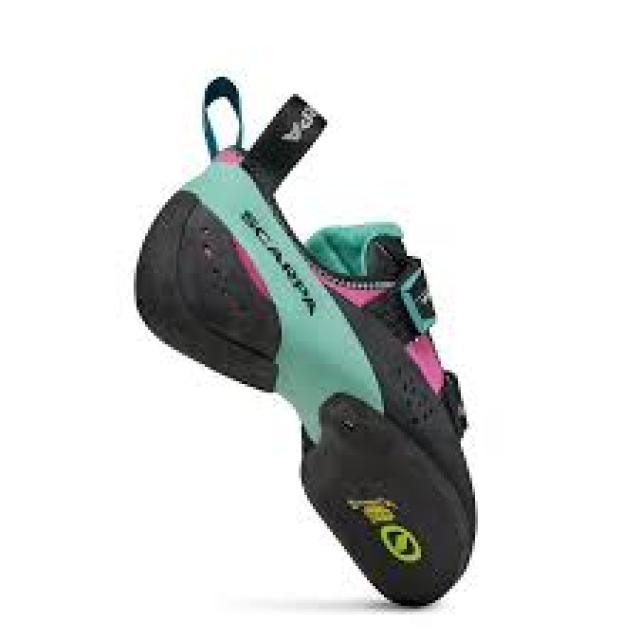climbing-shoes: (134, 77, 478, 612)
